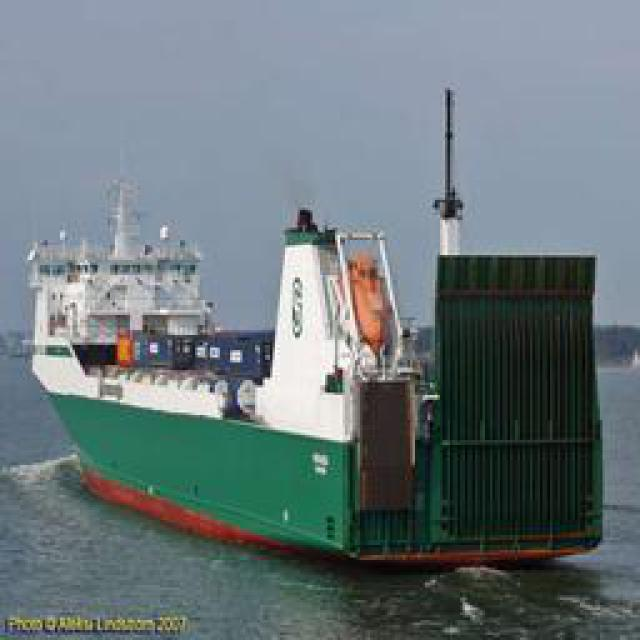Ship: (21, 166, 640, 574)
